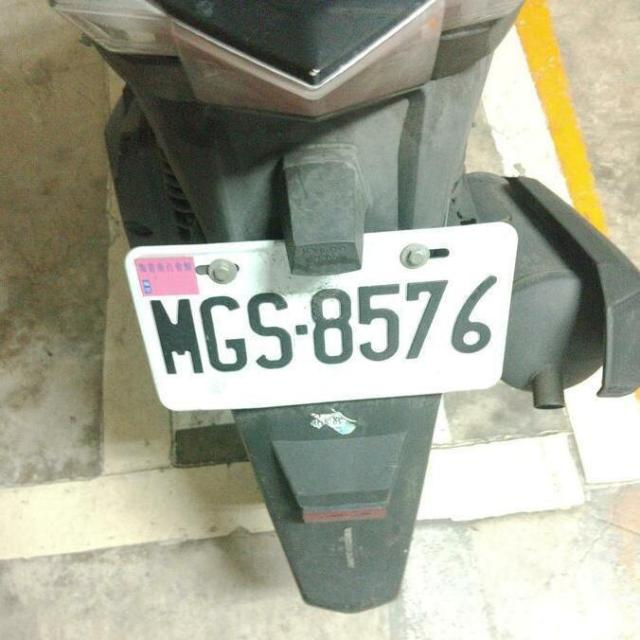W: (112, 216, 524, 427)
